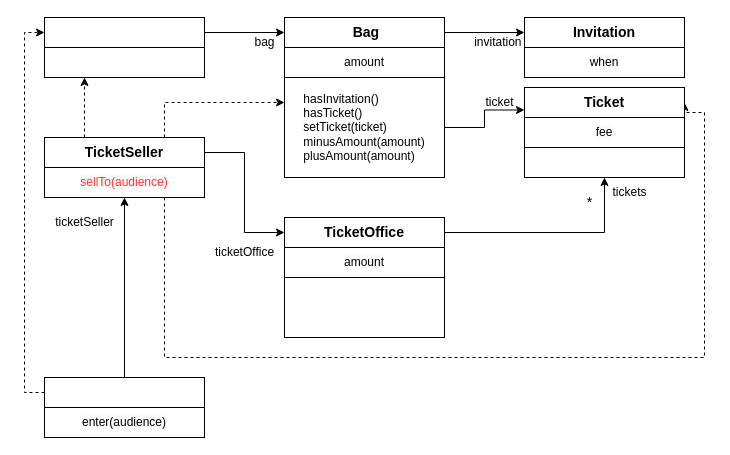
This 730x455 diagram has some shape labels left out. The shapes that lost their labels are listed below. From the top down, each one's centre as x and y in pixels, then its label:
[124,32]: Audience
[124,62]: getBag()
[604,162]: getFee()
[364,307]: getTicket() minusAmount(amount) plusAmount(amount)
[124,392]: Theater
